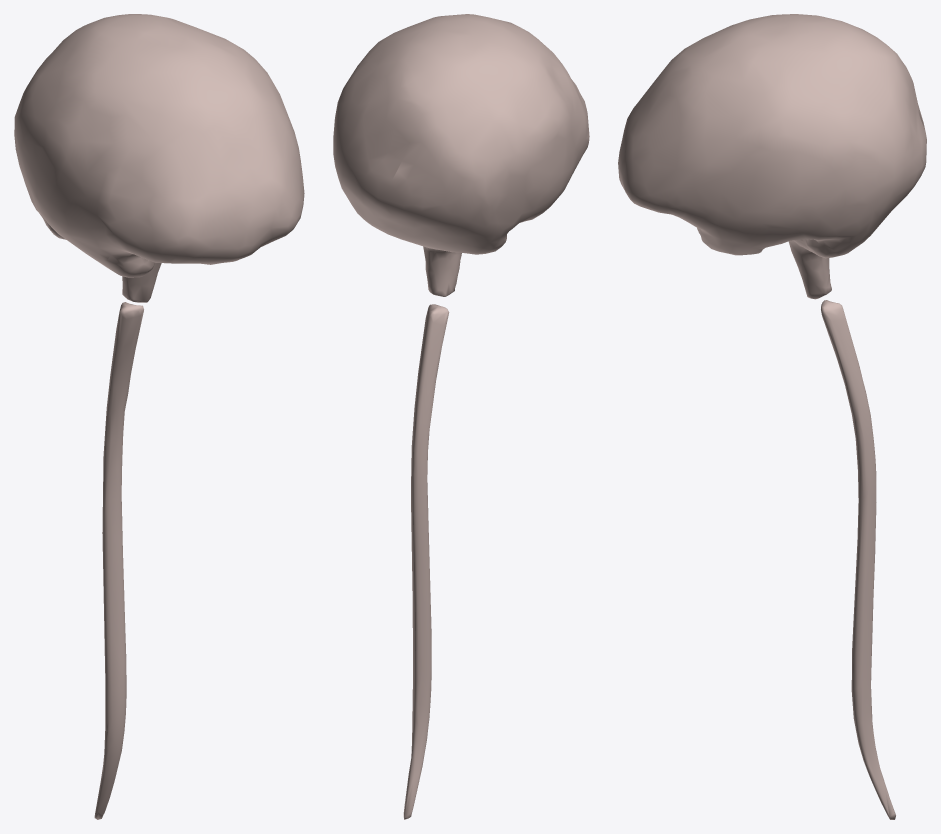
File: pediatric_neonate_male.nervous.LOD0.glb
The picture shows the model from 3 angles, left to right: view 1: azimuth 30°, elevation 25°; view 2: azimuth 150°, elevation 25°; view 3: azimuth 270°, elevation 25°; orthographic projection. The views are drawn at different scales.
Visible parts, largest first — view 1: PEDIATRIC.NEONATE.MALE.NERVOUS.BRAIN, PEDIATRIC.NEONATE.MALE.NERVOUS.SPINAL_CORD; view 2: PEDIATRIC.NEONATE.MALE.NERVOUS.BRAIN, PEDIATRIC.NEONATE.MALE.NERVOUS.SPINAL_CORD; view 3: PEDIATRIC.NEONATE.MALE.NERVOUS.BRAIN, PEDIATRIC.NEONATE.MALE.NERVOUS.SPINAL_CORD.
Part boxes in pixels (x1,y1,x2,y2): PEDIATRIC.NEONATE.MALE.NERVOUS.BRAIN: [14, 14, 304, 302]; PEDIATRIC.NEONATE.MALE.NERVOUS.SPINAL_CORD: [94, 302, 143, 819]; PEDIATRIC.NEONATE.MALE.NERVOUS.BRAIN: [333, 14, 589, 296]; PEDIATRIC.NEONATE.MALE.NERVOUS.SPINAL_CORD: [403, 304, 449, 819]; PEDIATRIC.NEONATE.MALE.NERVOUS.BRAIN: [618, 14, 926, 299]; PEDIATRIC.NEONATE.MALE.NERVOUS.SPINAL_CORD: [821, 300, 895, 819].
Bounding box in the file's own units: 0.0863 × 0.3018 × 0.1067.
